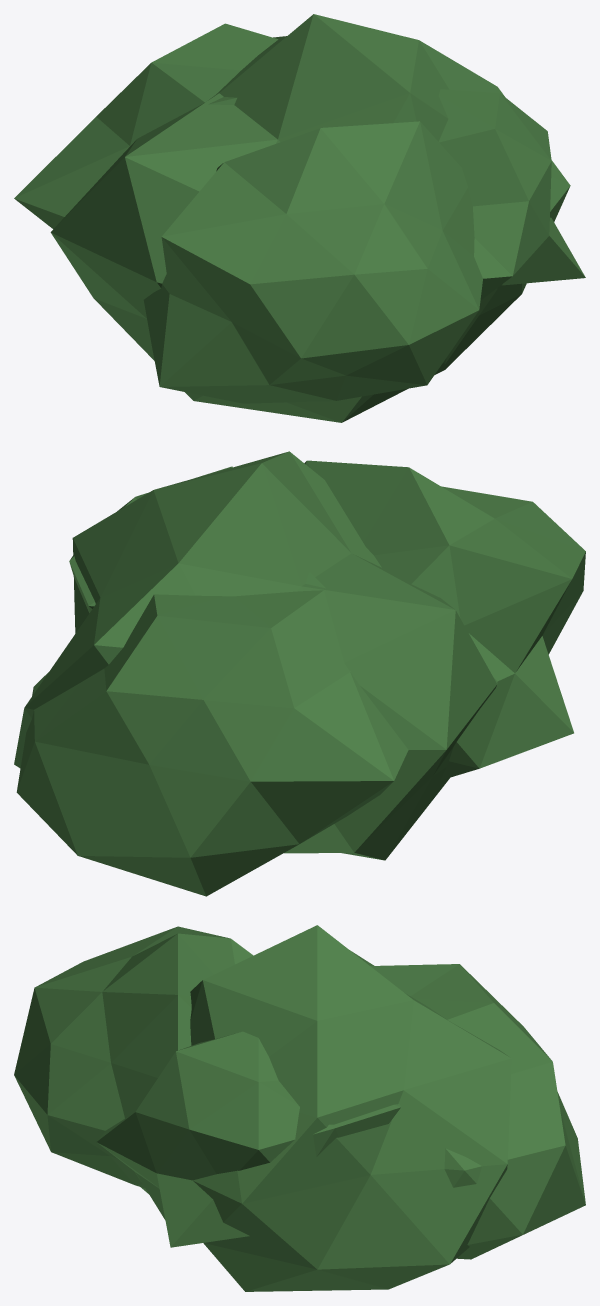
File: Bush_0.fbx
3 renders of one model, top to bottom at view 1: azimuth 30°, elevation 25°; view 2: azimuth 150°, elevation 25°; view 3: azimuth 270°, elevation 25°, orthographic. The views are drawn at different scales.
Parts seen in each view (by area): view 1: Bush_0; view 2: Bush_0; view 3: Bush_0.
Boxes of the visible parts, x1,y1,x2,y2 form: Bush_0: (14, 14, 585, 422); Bush_0: (14, 451, 585, 896); Bush_0: (14, 925, 585, 1291).
Bounding box in the file's own units: 1.71 × 2.05 × 1.34.
